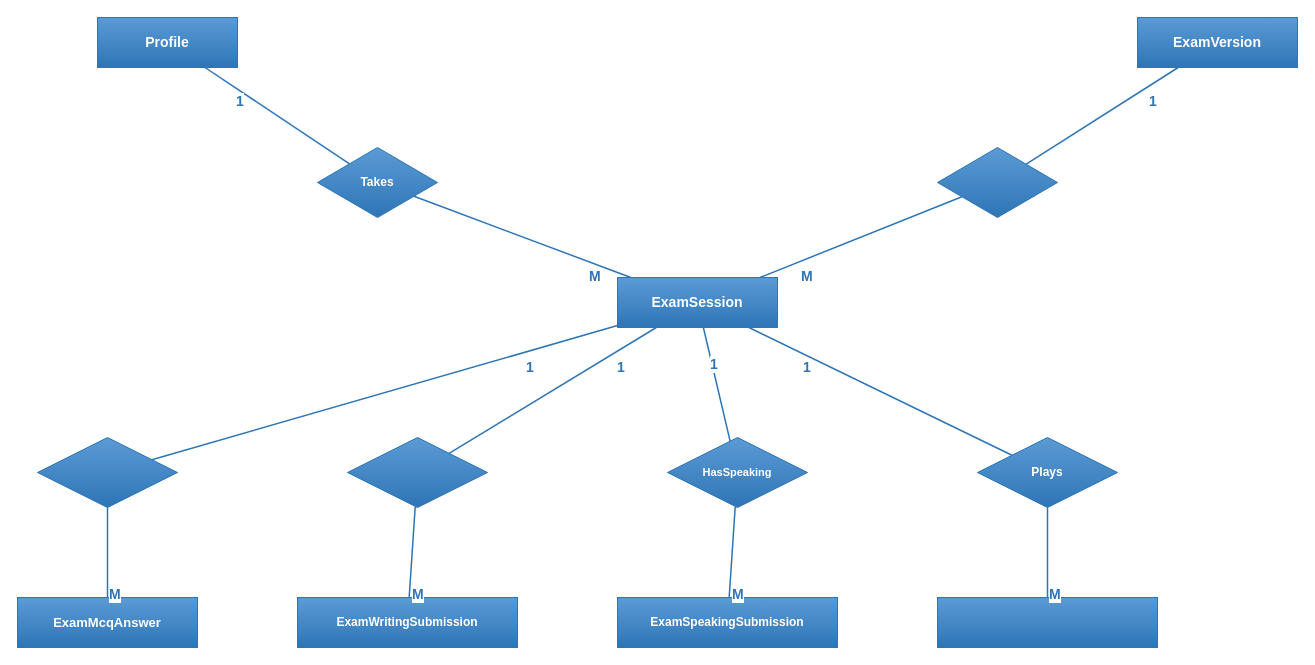
Some shapes in this 1315 by 665 pixel diagram are drawn without their labels. The shapes that lost their labels are listed below. From the top down, each one's box as (x1, y1, x2, y2) in pixels, then its label:
(936, 146, 1058, 218): Of
(36, 436, 178, 508): HasMcq
(346, 436, 488, 508): HasWriting
(936, 596, 1158, 648): ExamListeningPlayLog
